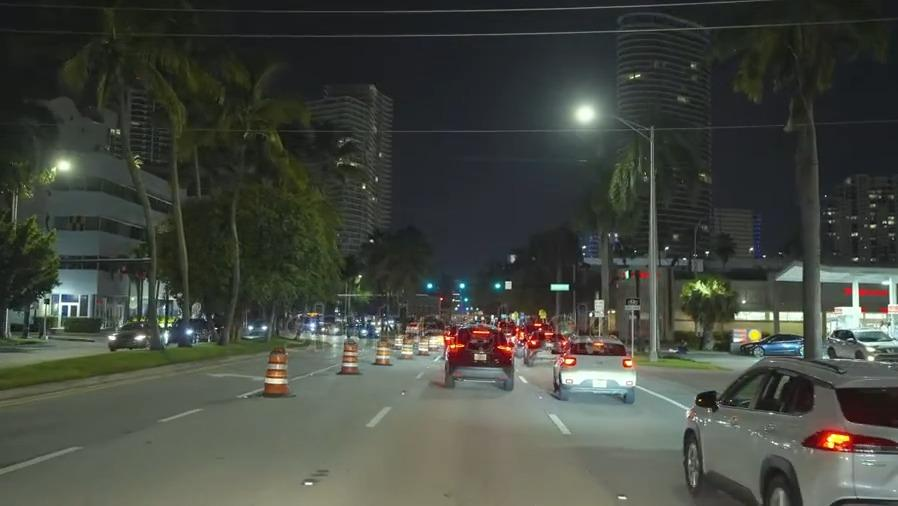car: (685, 359, 898, 506), (555, 336, 635, 400), (445, 324, 514, 389), (825, 326, 898, 362), (742, 331, 809, 359), (108, 318, 169, 347), (526, 329, 563, 363), (168, 317, 208, 343)
cone: (263, 347, 290, 395), (373, 336, 393, 367), (342, 339, 357, 376), (399, 335, 412, 358), (417, 333, 430, 356)
wheel: (759, 464, 791, 506), (684, 431, 703, 491)
